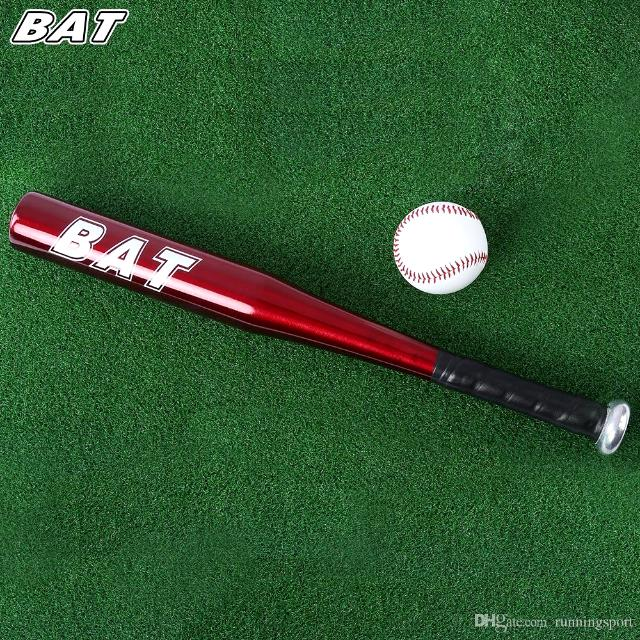baseball bat: (49, 304, 620, 458)
